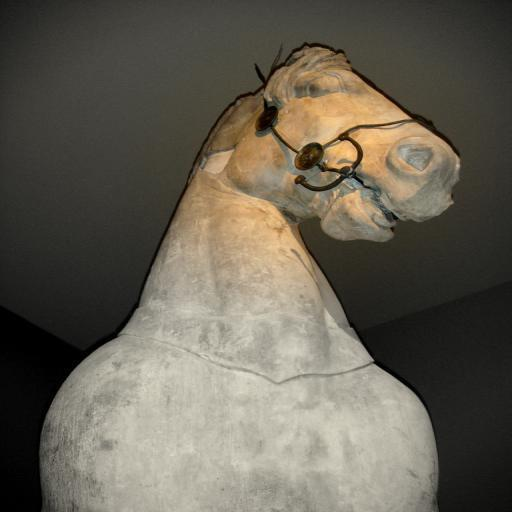horse: (36, 42, 463, 512)
